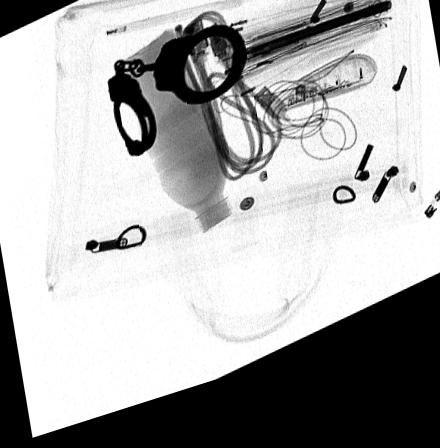HandCuffs: (107, 36, 247, 164)
